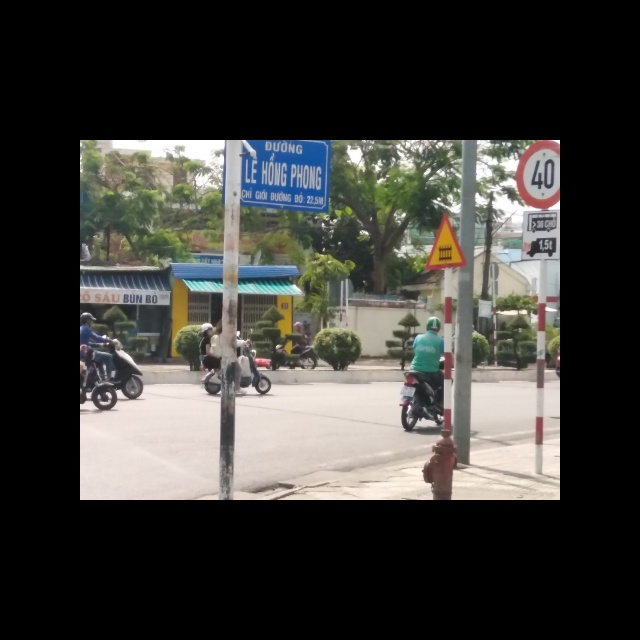Giao nhau với đường sắt có rào chắn: (426, 211, 468, 270)
Tốc độ tối đa cho phép 40km/h: (515, 140, 560, 212)
